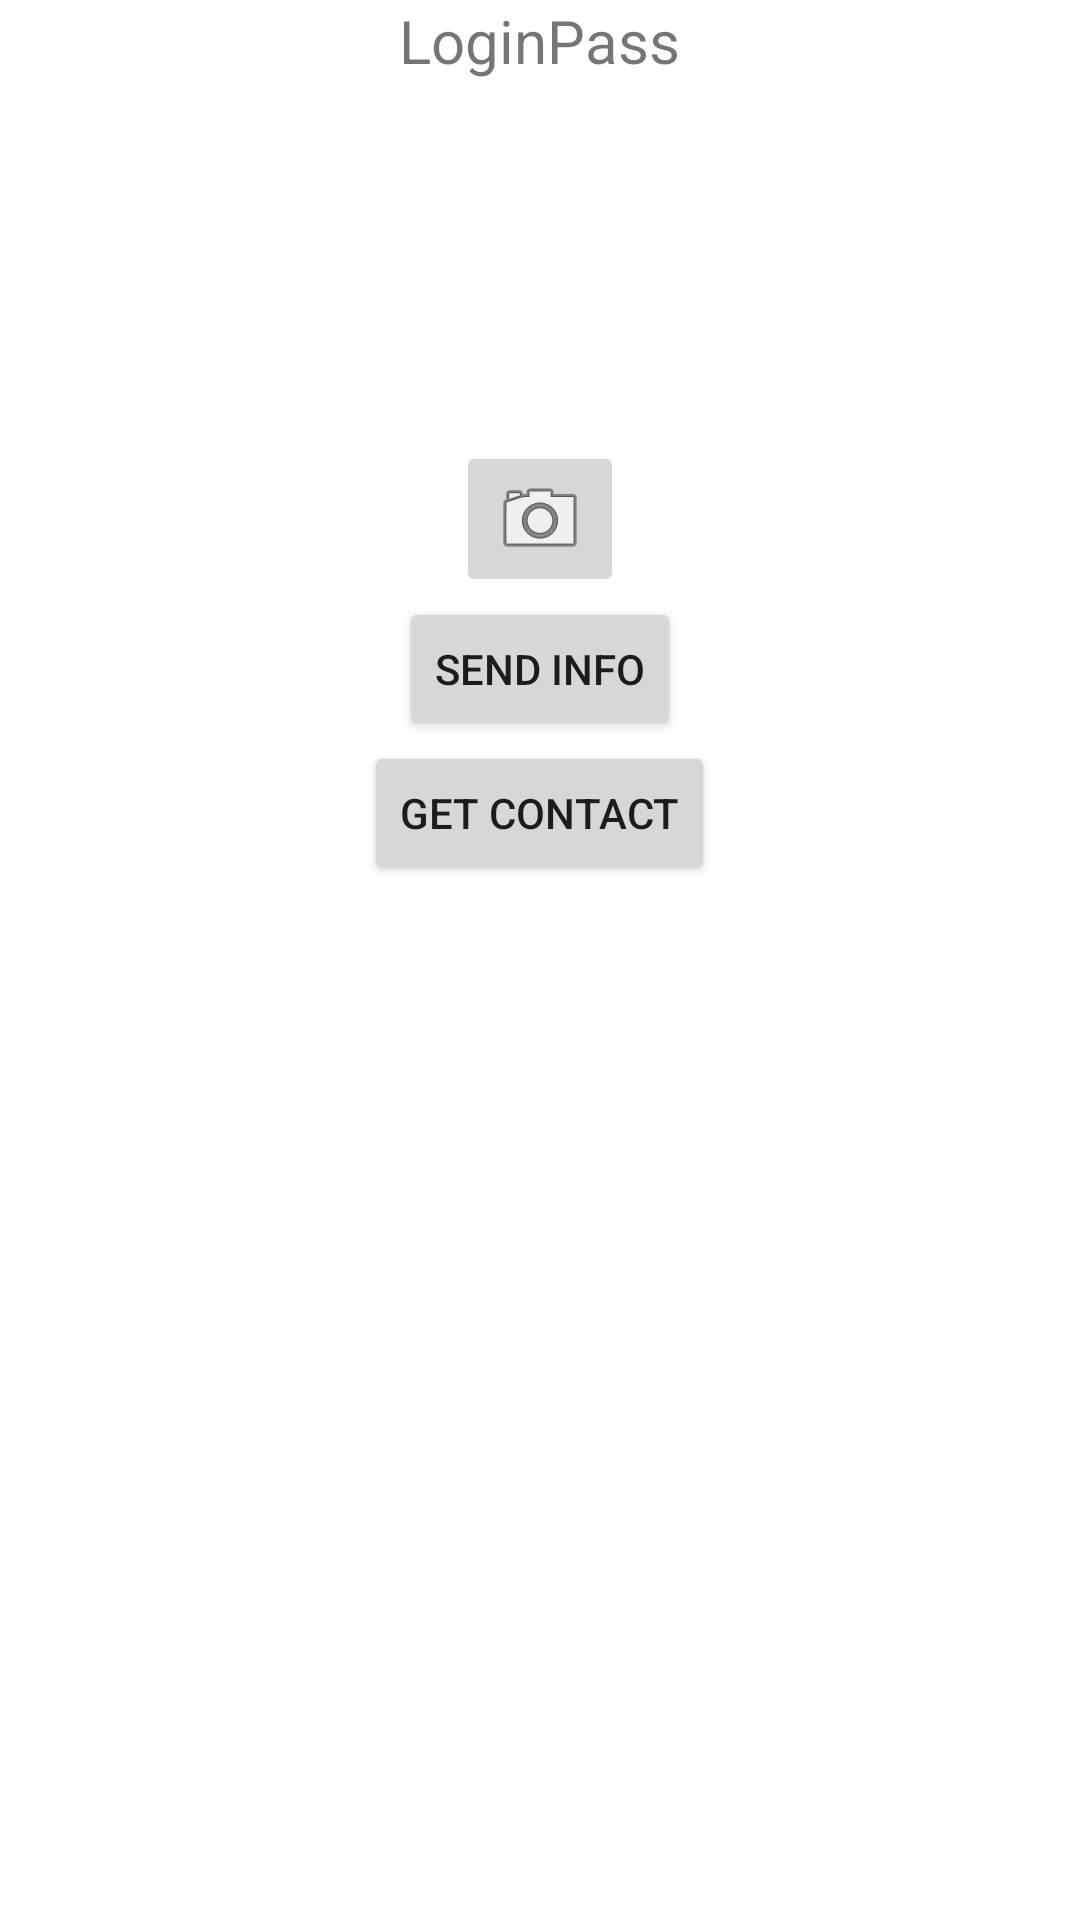

Locate icon controls on the screen. Image size 1080 × 1920, boxes as (x1, y1, x2, y2).
camera: (468, 459, 612, 579)
